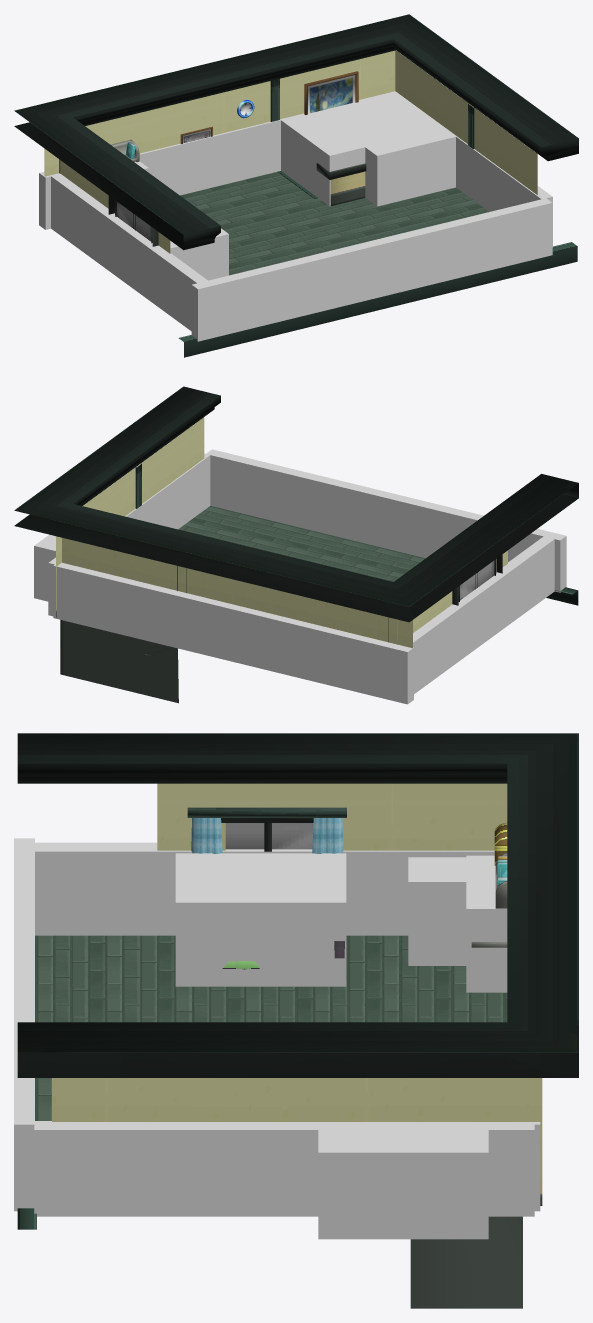
The model's file is Room.glb.
3 renders of one model, top to bottom at view 1: azimuth 30°, elevation 25°; view 2: azimuth 150°, elevation 25°; view 3: azimuth 270°, elevation 25°, orthographic. The views are drawn at different scales.
Visible parts, largest first — view 1: Brendans_Room, COLL_Wall4, COLL_Wall2, COLL_Wall6, COLL_Wall5, COLL_Wall3, COLL_Wall1, COLL_Wall7; view 2: Brendans_Room, COLL_Wall3, COLL_Wall4, COLL_Wall2, COLL_Wall1, COLL_Wall6; view 3: Brendans_Room, COLL_Wall1, COLL_Wall7, COLL_Wall2, COLL_Wall6, COLL_Wall4, COLL_Wall9, COLL_Wall8.
Boxes of the visible parts, box(x1,y1,x2,y2) form: Brendans_Room: box(14, 14, 578, 357); COLL_Wall4: box(191, 198, 552, 341); COLL_Wall2: box(51, 173, 207, 331); COLL_Wall6: box(326, 99, 455, 206); COLL_Wall5: box(280, 91, 442, 206); COLL_Wall3: box(39, 91, 394, 229); COLL_Wall1: box(394, 91, 552, 246); COLL_Wall7: box(170, 228, 228, 280); Brendans_Room: box(14, 386, 578, 703); COLL_Wall3: box(53, 562, 413, 704); COLL_Wall4: box(206, 449, 566, 592); COLL_Wall2: box(393, 536, 554, 693); COLL_Wall1: box(48, 453, 210, 616); COLL_Wall6: box(34, 534, 55, 601); Brendans_Room: box(17, 733, 578, 1308); COLL_Wall1: box(34, 1121, 534, 1216); COLL_Wall7: box(175, 853, 346, 986); COLL_Wall2: box(34, 842, 494, 935); COLL_Wall6: box(318, 1124, 488, 1239); COLL_Wall4: box(14, 838, 34, 1211); COLL_Wall9: box(408, 857, 466, 965); COLL_Wall8: box(466, 855, 507, 992).
Bounding box in the file's own units: 26.98 × 10.83 × 19.81.
Materials: 18 (18 with a texture image).
